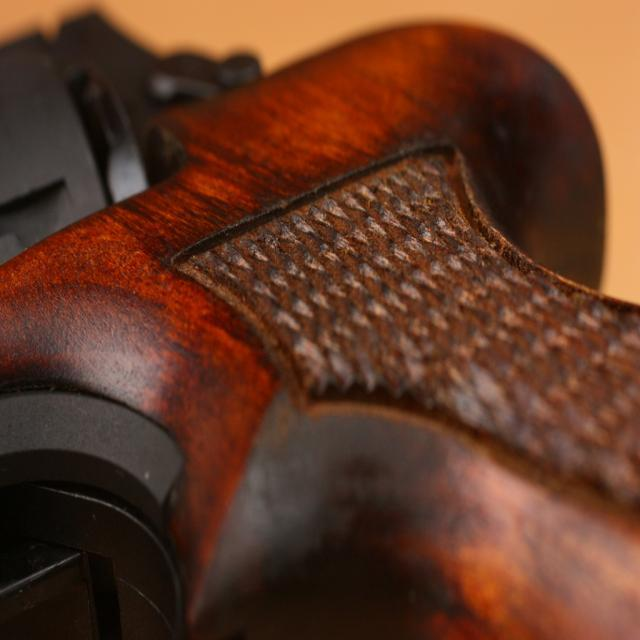Gun: (0, 14, 640, 640)
